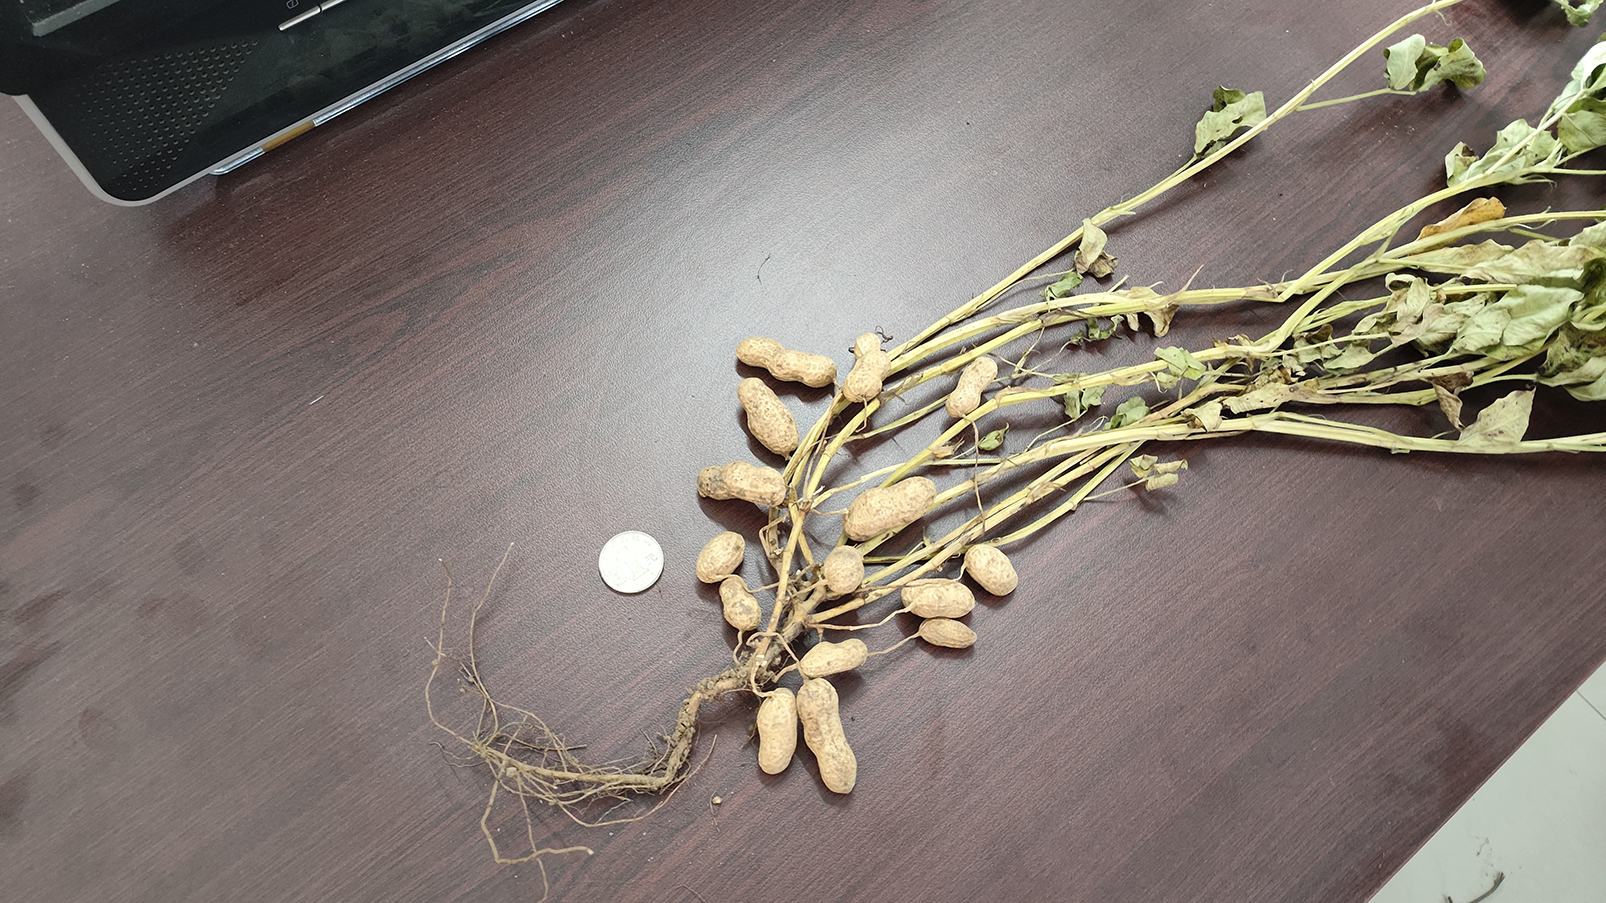h: (795, 673, 856, 795), (845, 477, 936, 541), (736, 334, 836, 387), (738, 376, 797, 454), (697, 460, 786, 506), (758, 682, 797, 773), (843, 330, 890, 401), (946, 355, 999, 416), (901, 578, 975, 617), (965, 542, 1017, 596), (695, 531, 746, 583), (799, 638, 868, 676), (720, 576, 761, 628), (823, 544, 864, 593), (920, 619, 976, 647)
